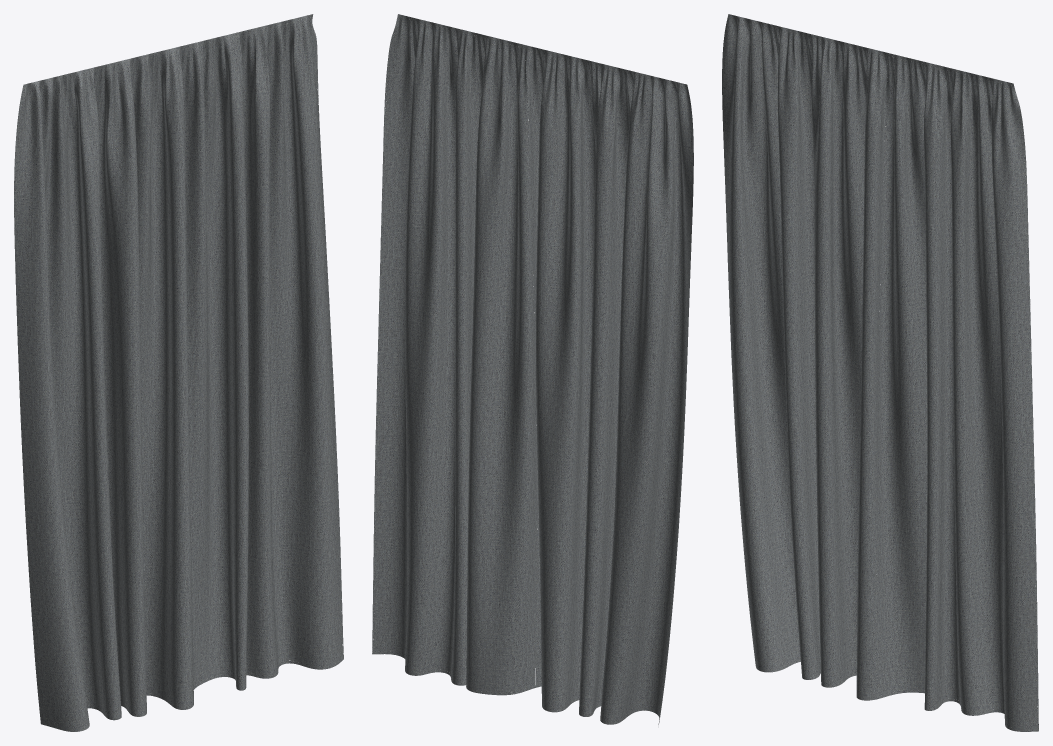
The model's file is Vorhang_einfach.glb.
The picture shows the model from 3 angles, left to right: view 1: azimuth 30°, elevation 25°; view 2: azimuth 150°, elevation 25°; view 3: azimuth 330°, elevation 25°; orthographic projection.
Visible parts, largest first — view 1: Plane001__0; view 2: Plane001__0; view 3: Plane001__0.
Part boxes in pixels (box(x1,y1,x2,y2)): Plane001__0: box(14, 14, 343, 731); Plane001__0: box(372, 14, 693, 724); Plane001__0: box(722, 14, 1038, 731).
Size of the model in its own units: 1.59 by 3.03 by 0.2216.
Materials: 1 (1 with a texture image).
